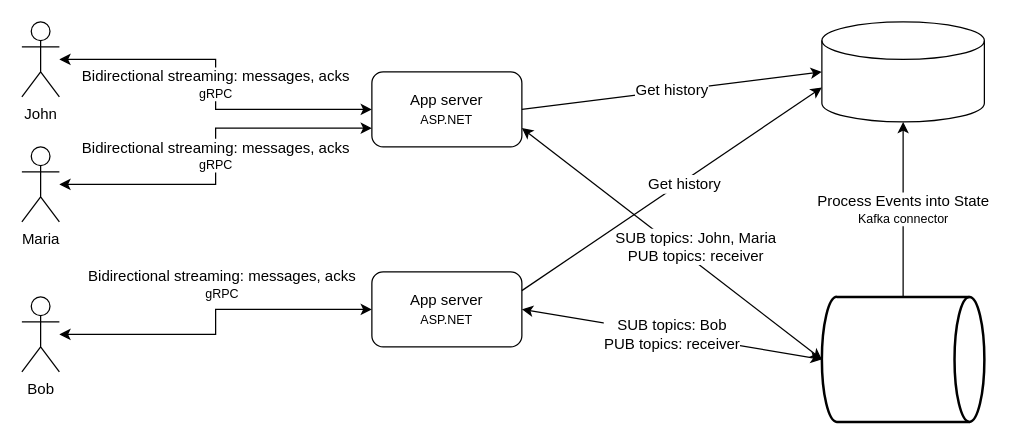
This 1010x445 diagram has some shape labels left out. The shapes that lost their labels are listed below. From the top down, each one's centre as x and y in pixels, then its label:
At point 902,71: "DB Cassandra".
At point 902,358: "PUB/SUB Kafka".
